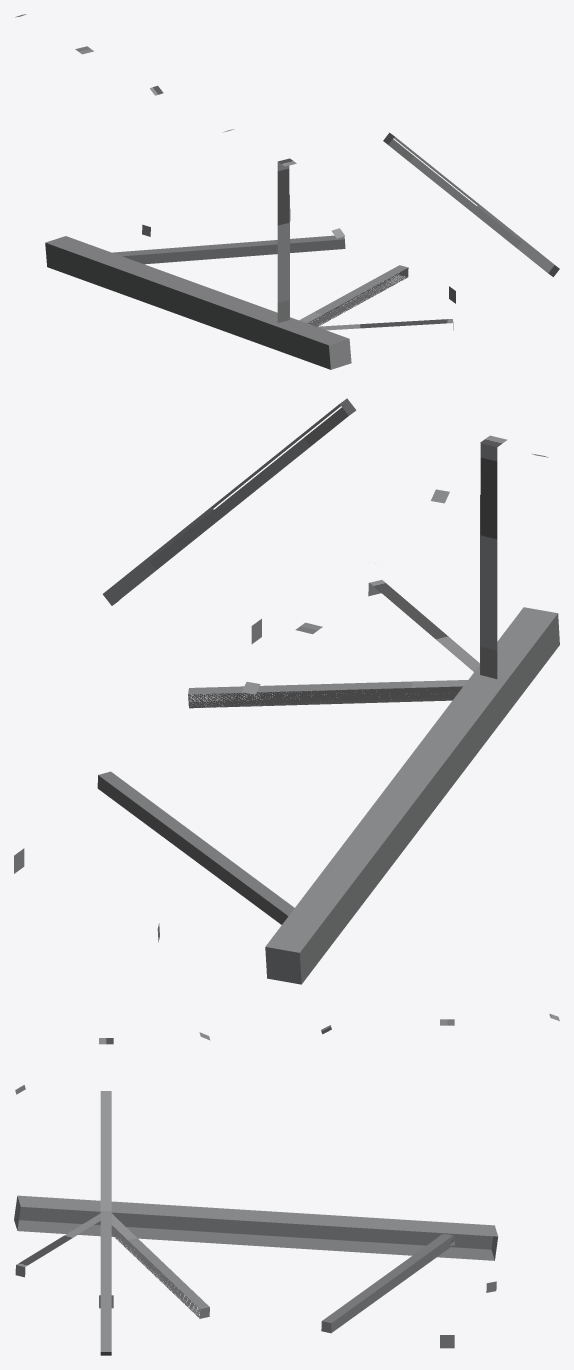
The picture shows the model from 3 angles, top to bottom: view 1: azimuth 30°, elevation 25°; view 2: azimuth 150°, elevation 25°; view 3: azimuth 270°, elevation 25°; orthographic projection. The views are drawn at different scales.
Size of the model in its own units: 1.58 by 1.08 by 2.24.
